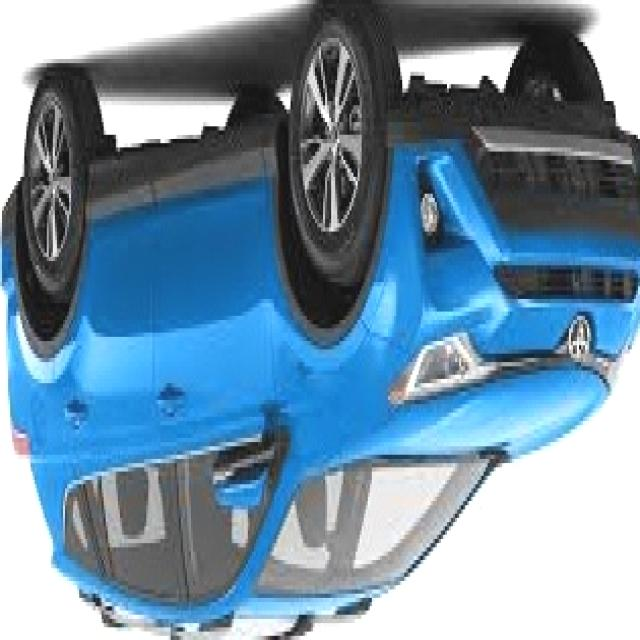blue: (0, 23, 631, 630)
